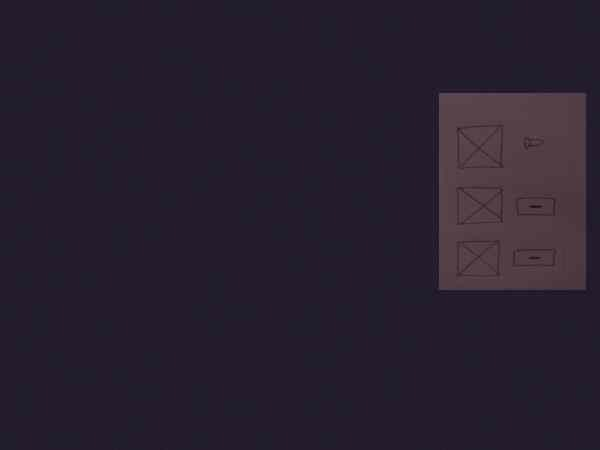button: (511, 247, 559, 271), (514, 194, 559, 219)
image: (454, 124, 508, 174), (454, 182, 508, 228), (454, 238, 503, 280)
switch: (523, 135, 546, 153)
